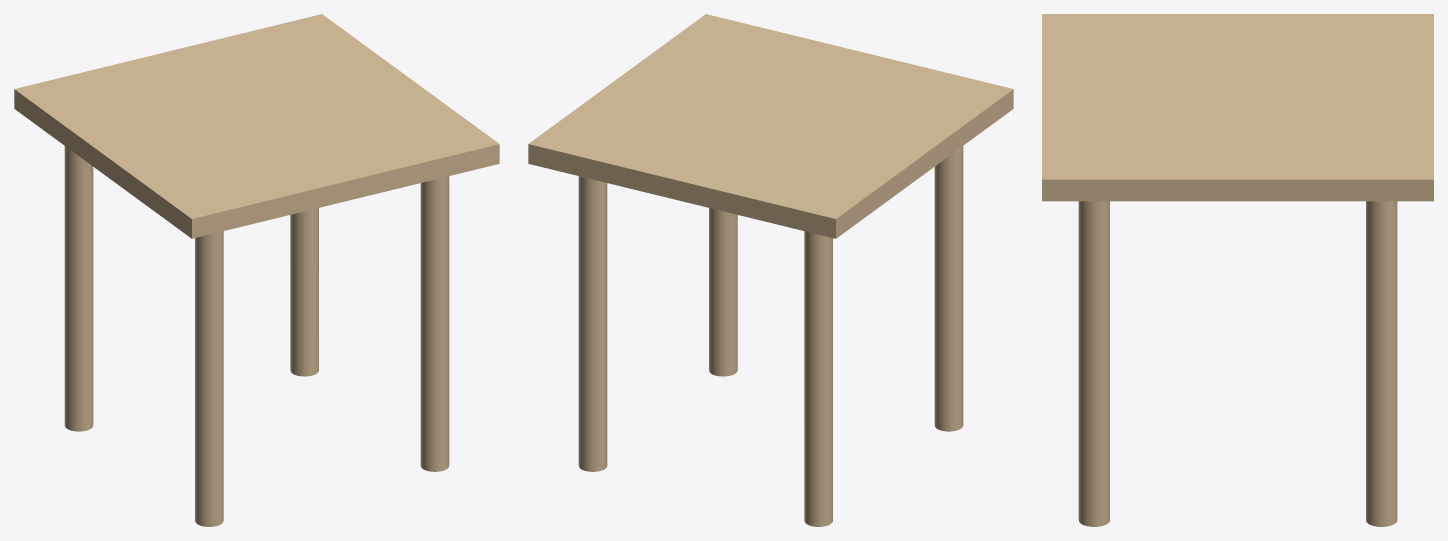
Rendered from muuto-around-small-arotabsm01-g2-proxy.glb.
The picture shows the model from 3 angles, left to right: view 1: azimuth 30°, elevation 25°; view 2: azimuth 150°, elevation 25°; view 3: azimuth 270°, elevation 25°; orthographic projection. The views are drawn at different scales.
Visible parts, largest first — view 1: proxy_body, leg (×4); view 2: proxy_body, leg (×4); view 3: proxy_body, leg (×2).
Part boxes in pixels (x1,y1,x2,y2): proxy_body: (14, 14, 499, 238); leg (×4): (64, 146, 449, 526); proxy_body: (528, 14, 1013, 238); leg (×4): (578, 146, 963, 526); proxy_body: (1042, 14, 1433, 201); leg (×2): (1078, 201, 1397, 526).
Size of the model in its own units: 0.45 by 0.46 by 0.45.
